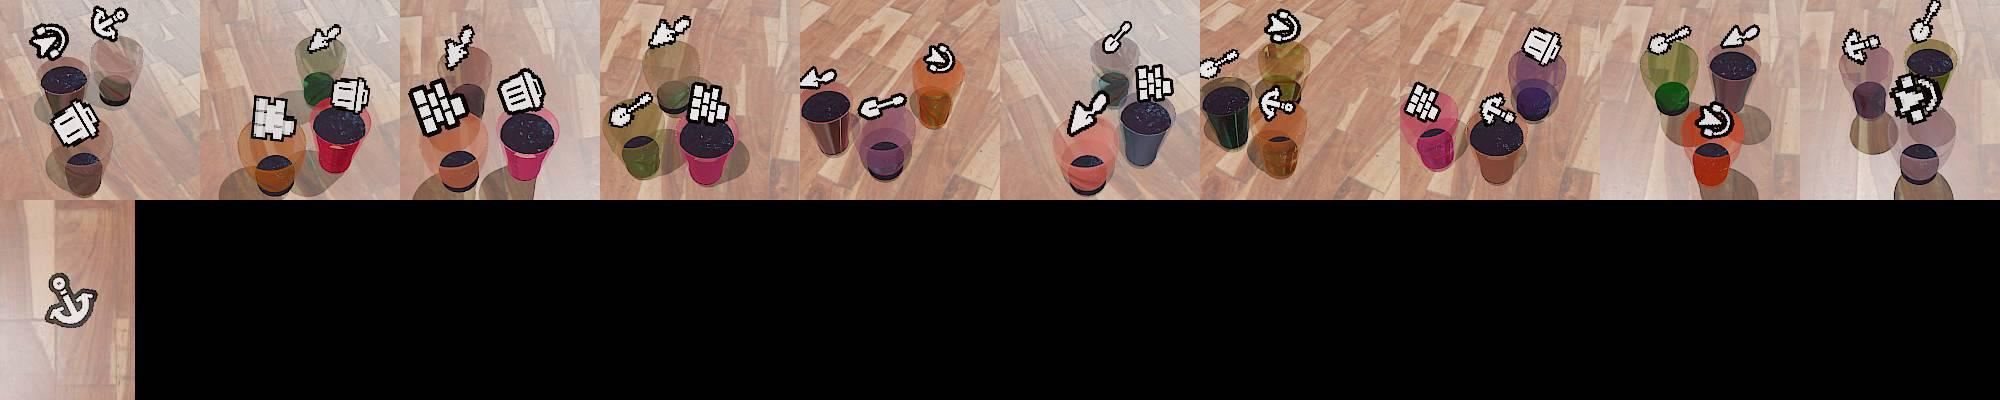icon: (408, 76, 472, 138), (42, 270, 98, 329), (1888, 71, 1943, 125), (50, 98, 101, 148), (496, 68, 546, 117), (251, 93, 297, 141), (685, 80, 731, 125), (1066, 89, 1110, 136), (607, 89, 654, 129), (328, 74, 371, 116), (1134, 62, 1176, 104), (1522, 25, 1565, 66), (441, 24, 476, 70), (29, 23, 70, 61), (1404, 80, 1441, 122), (648, 15, 693, 50), (1258, 84, 1297, 122), (1694, 99, 1733, 138), (1841, 27, 1881, 64), (1648, 24, 1694, 56), (856, 92, 906, 121), (1909, 0, 1943, 43), (91, 5, 128, 43), (1265, 8, 1302, 46), (1199, 48, 1239, 82), (1478, 92, 1515, 126), (306, 23, 342, 54), (1102, 19, 1133, 55), (1719, 23, 1759, 50), (797, 65, 838, 90), (923, 42, 955, 74)
